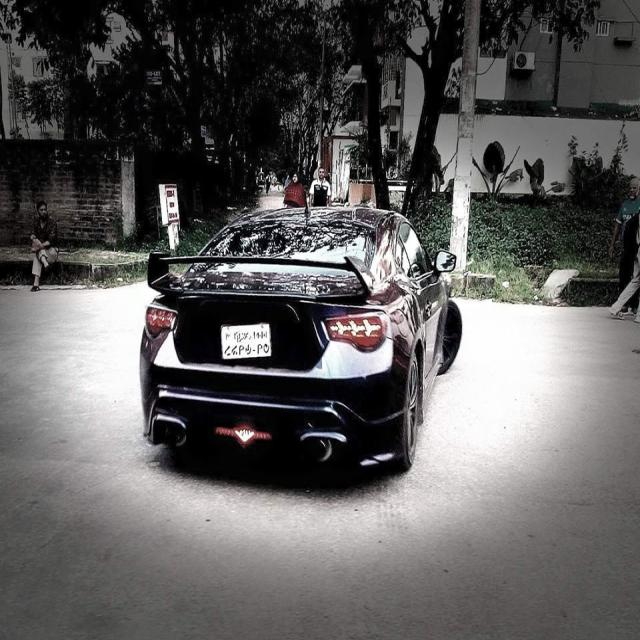numberplate: (220, 322, 273, 360)
